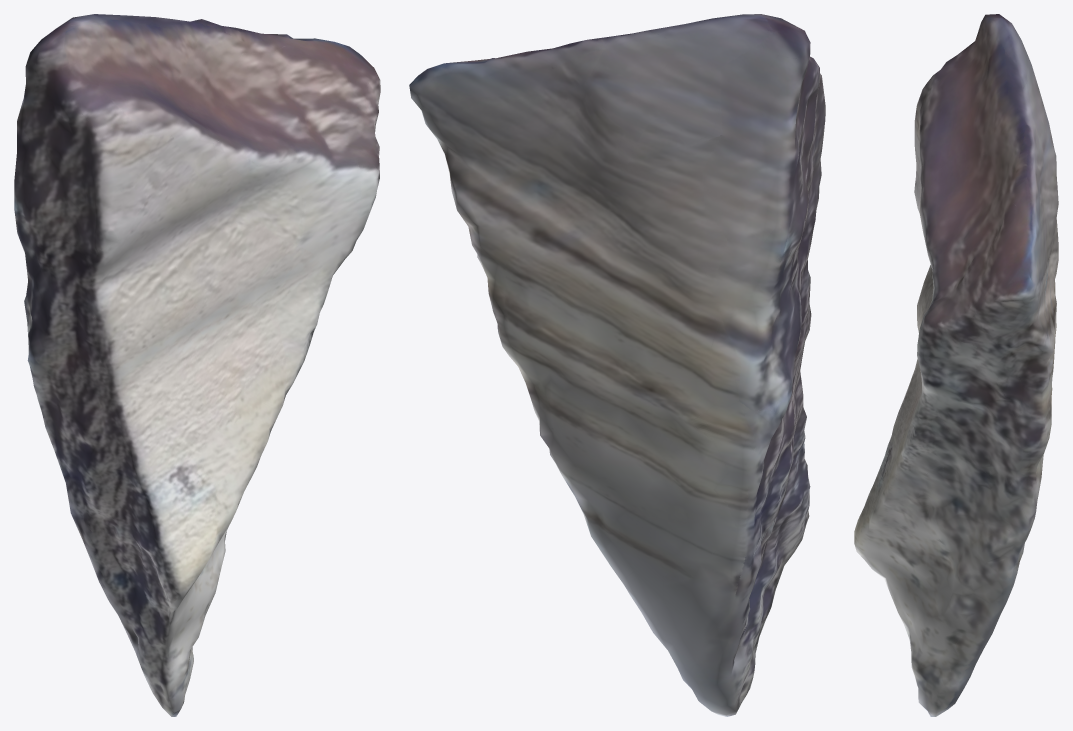
Rendered from scan4dd75501-aed2-44b9-9087-c7971d19f41d.glb.
3 views of the same model, side by side, from view 1: azimuth 30°, elevation 25°; view 2: azimuth 150°, elevation 25°; view 3: azimuth 270°, elevation 25° (orthographic). The views are drawn at different scales.
Parts seen in each view (by area): view 1: ObjectCapture; view 2: ObjectCapture; view 3: ObjectCapture.
Boxes of the visible parts, x1=… form: ObjectCapture: x1=14, y1=14, x2=380, y2=716; ObjectCapture: x1=409, y1=14, x2=825, y2=716; ObjectCapture: x1=854, y1=14, x2=1058, y2=716.
Bounding box in the file's own units: 0.1989 × 0.3679 × 0.1024.
Materials: 1 (1 with a texture image).
